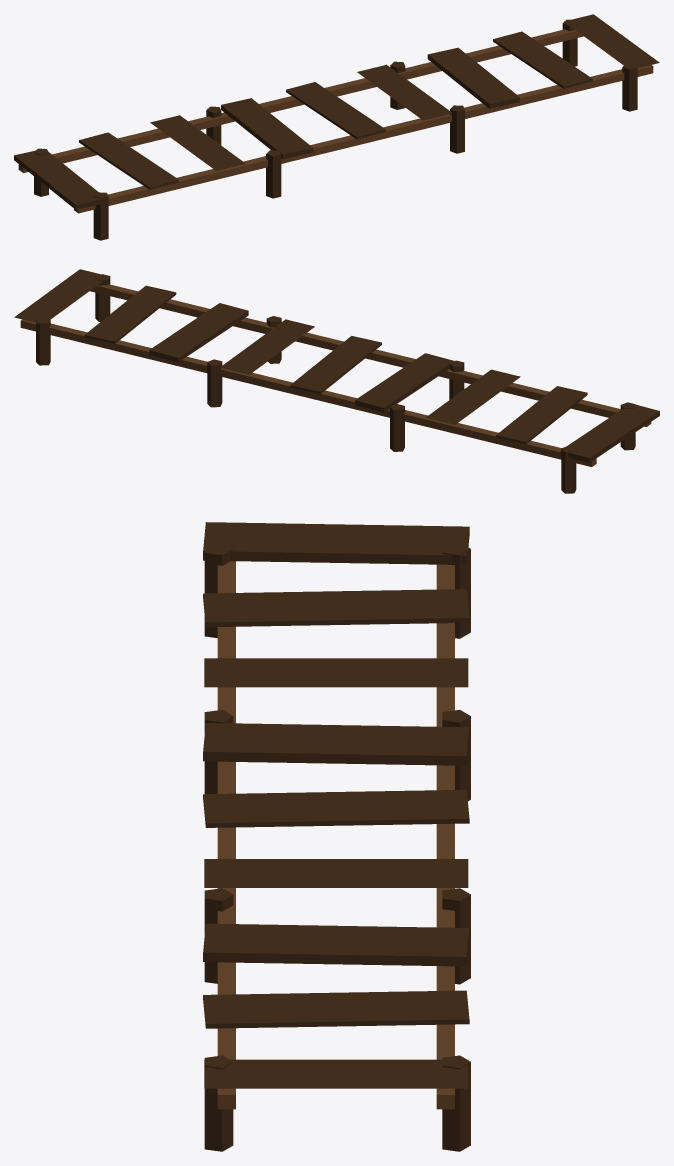
File: bg_swamp_boardwalk_1_lod1.glb
The picture shows the model from 3 angles, top to bottom: view 1: azimuth 30°, elevation 25°; view 2: azimuth 150°, elevation 25°; view 3: azimuth 270°, elevation 25°; orthographic projection. The views are drawn at different scales.
Visible parts, largest first — view 1: body; view 2: body; view 3: body.
Part boxes in pixels (x1,y1,x2,y2): body: [14, 14, 659, 240]; body: [14, 269, 659, 493]; body: [203, 522, 470, 1151].
Bounding box in the file's own units: 5.08 × 0.35 × 1.01.
